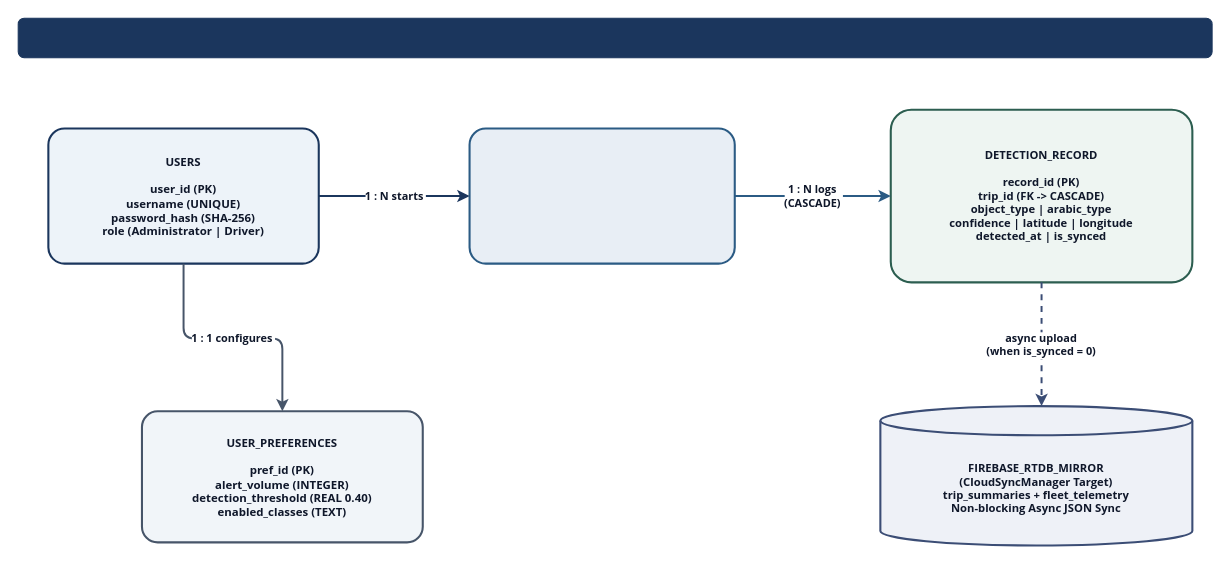
This 1230x565 diagram has some shape labels left out. The shapes that lost their labels are listed below. From the top down, each one's centre as x and y in pixels, then its label:
pixel 614 37: Entity-Relationship Diagram (vision_local.db v4 & Optional Cloud Sync)
pixel 601 195: TRIP trip_id (PK) driver_username (FK) start_time | end_time total_hazards
